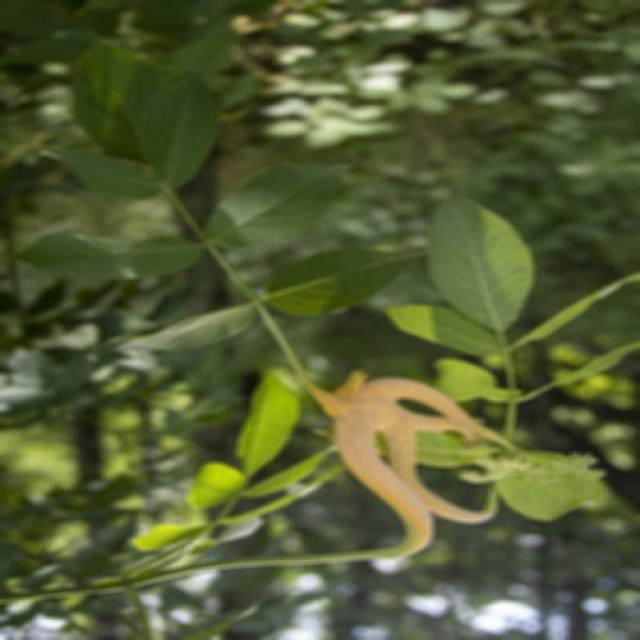Elderberry_rust: (267, 321, 522, 571)
